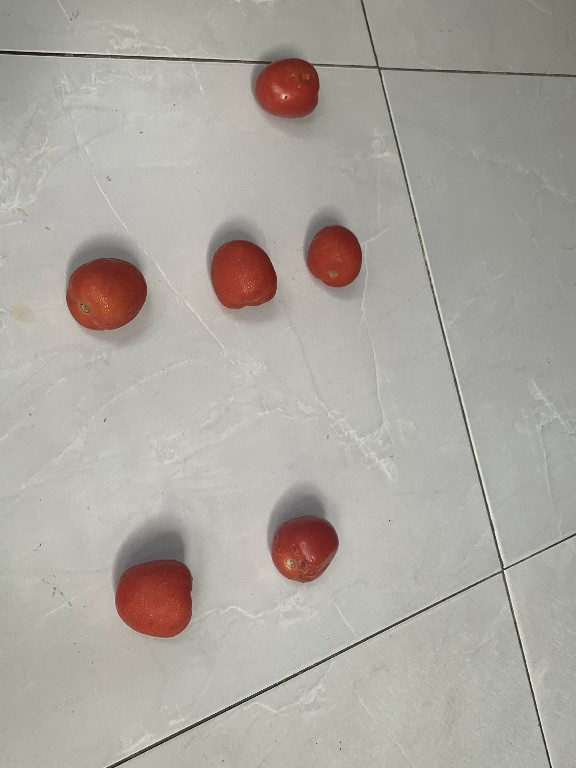NG: (271, 511, 341, 587), (252, 58, 319, 122)
OK: (110, 557, 200, 641), (61, 255, 149, 329), (207, 236, 282, 309), (302, 216, 369, 293)
